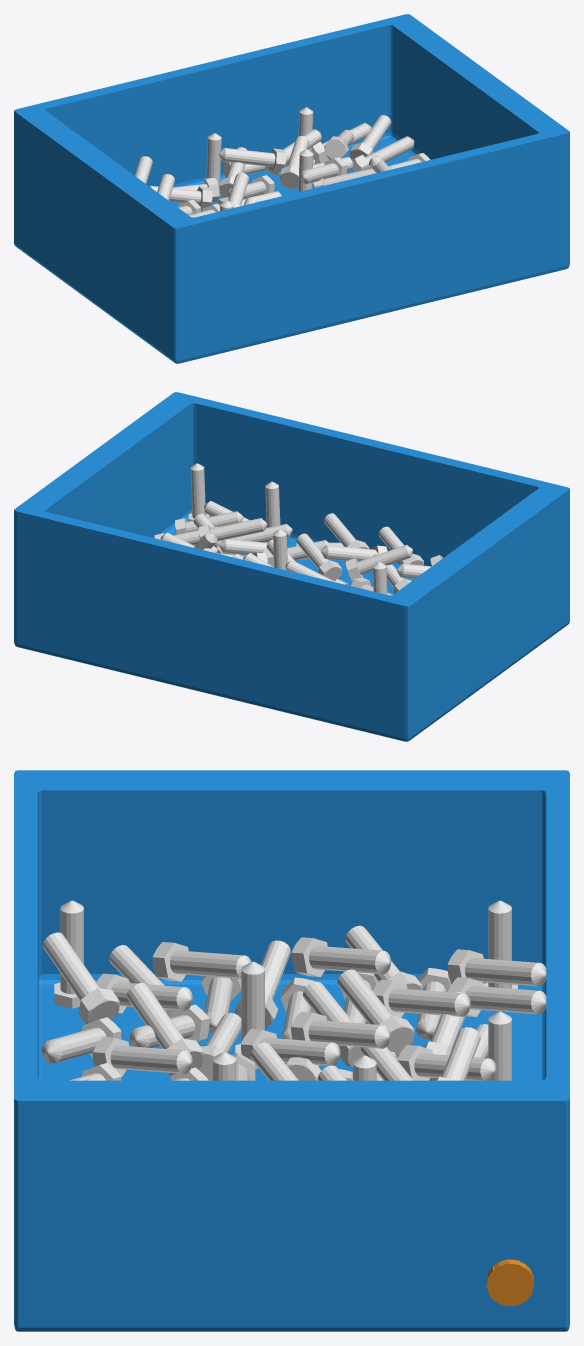
The model's file is Bin_with_screw_Blue.glb.
3 renders of one model, top to bottom at view 1: azimuth 30°, elevation 25°; view 2: azimuth 150°, elevation 25°; view 3: azimuth 270°, elevation 25°, orthographic. The views are drawn at different scales.
Parts seen in each view (by area): view 1: Bin, Screw.054, Screw.026, Screw.032, Screw.030, Screw.024, Screw.055, Screw.059, Screw.025, Screw.031, Screw.038, Screw.072 (+1 smaller); view 2: Bin, Screw.052, Screw.023, Screw.014, Screw, Screw.022, Screw.004, Screw.009, Screw.001, Screw.006, Screw.027, Screw.039 (+1 smaller); view 3: Bin, Screw.064, Screw.066, Screw.048, Screw.022, Screw.067, Screw.072, Screw.069, Screw.058, Screw.044, Screw.052, Screw.056 (+21 smaller).
Boxes of the visible parts, x1=… form: Bin: x1=14, y1=14, x2=569, y2=363; Screw.054: x1=218, y1=148, x2=286, y2=172; Screw.026: x1=352, y1=136, x2=414, y2=171; Screw.032: x1=280, y1=136, x2=309, y2=189; Screw.030: x1=350, y1=115, x2=391, y2=159; Screw.024: x1=300, y1=157, x2=347, y2=183; Screw.055: x1=149, y1=185, x2=212, y2=209; Screw.059: x1=202, y1=133, x2=221, y2=195; Screw.025: x1=324, y1=129, x2=353, y2=158; Screw.031: x1=311, y1=122, x2=371, y2=163; Screw.038: x1=227, y1=175, x2=274, y2=199; Screw.072: x1=228, y1=172, x2=248, y2=207; Bin: x1=14, y1=392, x2=569, y2=741; Screw.052: x1=345, y1=544, x2=412, y2=581; Screw.023: x1=198, y1=518, x2=267, y2=541; Screw.014: x1=296, y1=533, x2=341, y2=581; Screw: x1=188, y1=463, x2=209, y2=521; Screw.022: x1=321, y1=545, x2=387, y2=561; Screw.004: x1=174, y1=511, x2=243, y2=534; Screw.009: x1=324, y1=513, x2=369, y2=548; Screw.001: x1=265, y1=481, x2=280, y2=542; Screw.006: x1=219, y1=539, x2=267, y2=554; Screw.027: x1=273, y1=529, x2=287, y2=570; Screw.039: x1=378, y1=526, x2=423, y2=565; Bin: x1=14, y1=770, x2=569, y2=1331; Screw.064: x1=42, y1=932, x2=119, y2=1024; Screw.066: x1=291, y1=937, x2=391, y2=976; Screw.048: x1=152, y1=942, x2=251, y2=981; Screw.022: x1=93, y1=1037, x2=192, y2=1076; Screw.067: x1=447, y1=949, x2=546, y2=986; Screw.072: x1=291, y1=1011, x2=390, y2=1048; Screw.069: x1=373, y1=979, x2=470, y2=1017; Screw.058: x1=448, y1=977, x2=546, y2=1016; Screw.044: x1=337, y1=969, x2=414, y2=1056; Screw.052: x1=126, y1=983, x2=203, y2=1075; Screw.056: x1=241, y1=1029, x2=340, y2=1067.
Bounding box in the file's own units: 0.399 × 0.13 × 0.28.
